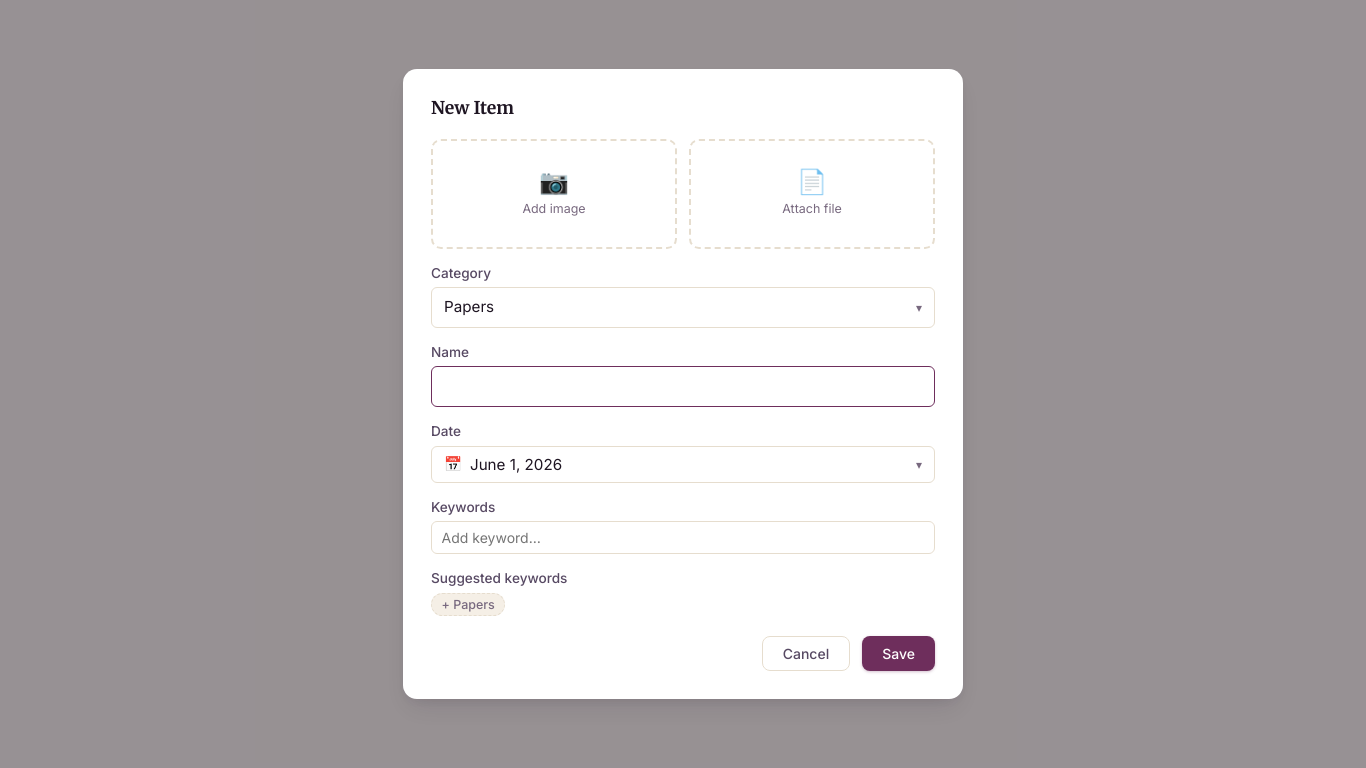
Test: shows error message when createItem fails
Type "Fail Item" into the 1st field at (683, 387), box x1=431 y1=366 x2=935 y2=407
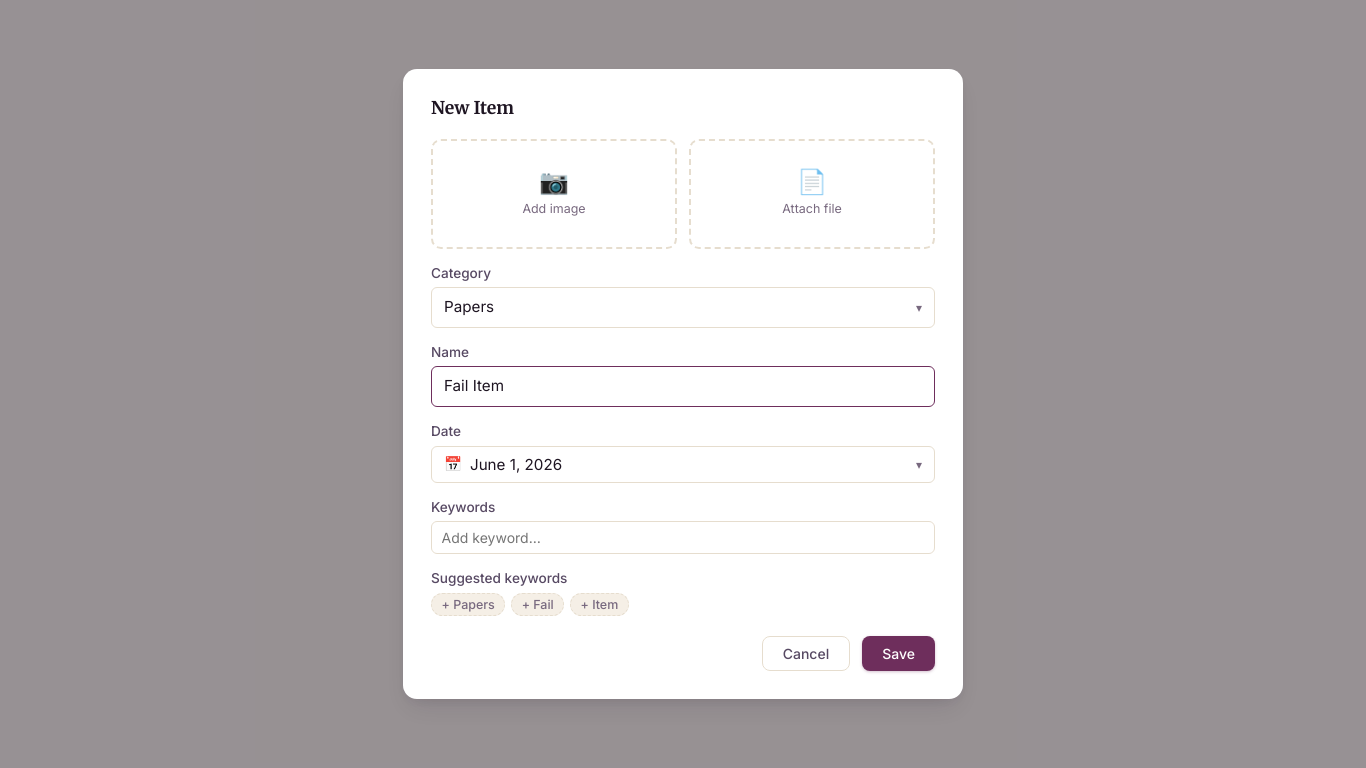
Click the button "Save" at (899, 654), box x1=862 y1=636 x2=935 y2=671
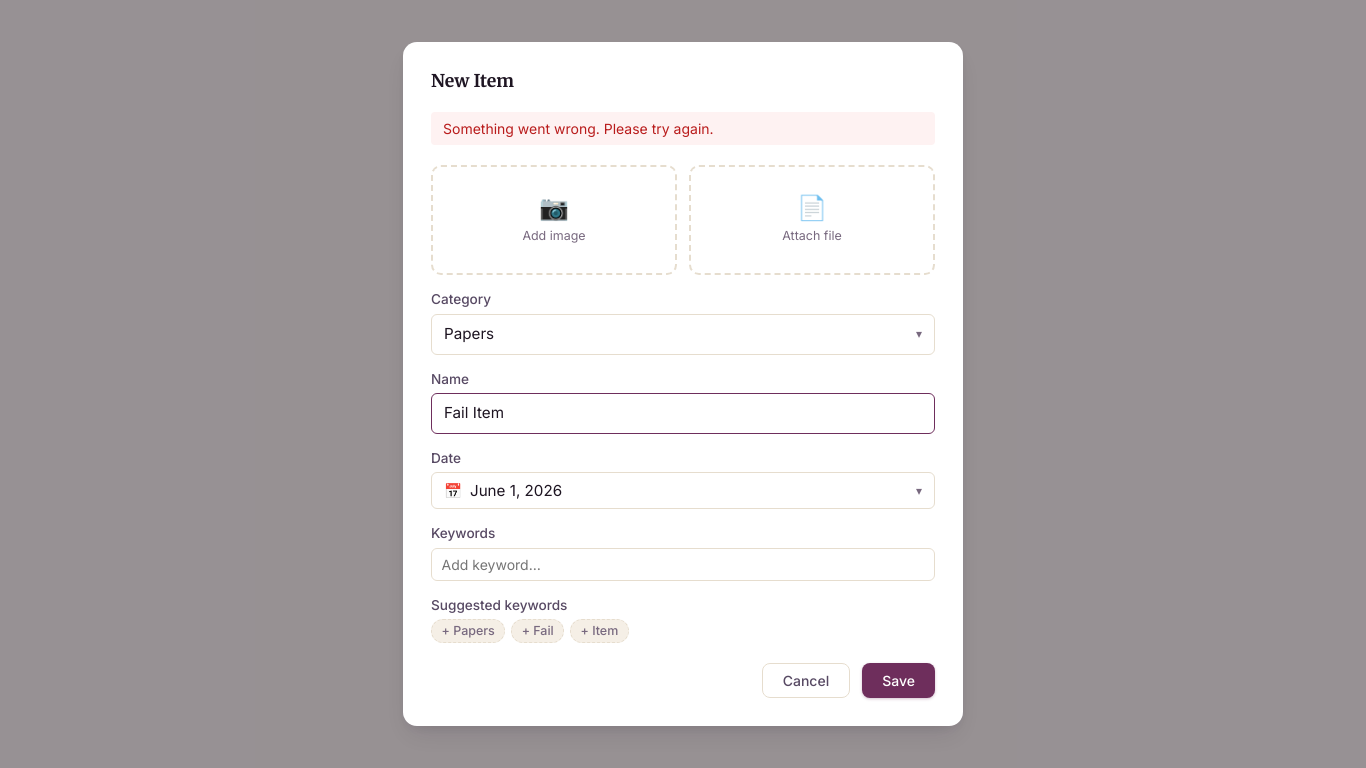
Expected: the text "Something went wrong. Please try again." is shown, x1=431 y1=112 x2=935 y2=145
